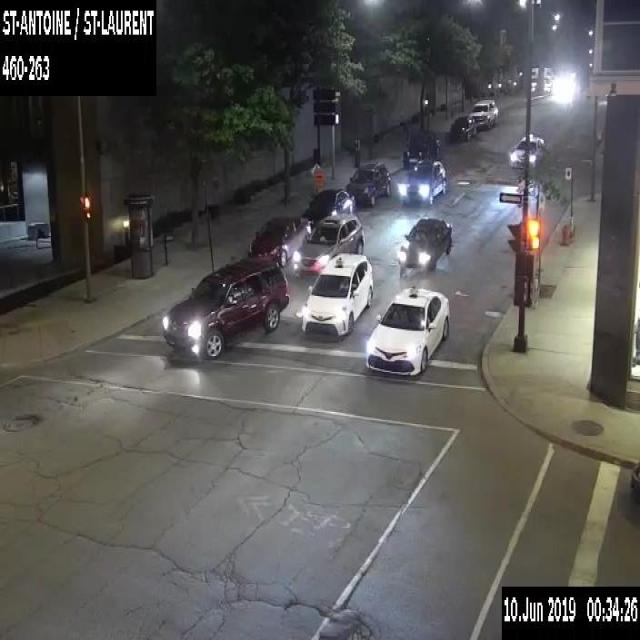construction: (310, 162, 323, 192)
pedestrian: (353, 134, 361, 167)
vehicle: (161, 252, 288, 360), (366, 285, 449, 375), (300, 253, 372, 336), (293, 212, 364, 274), (397, 214, 453, 274), (248, 214, 311, 266), (300, 187, 354, 232), (399, 159, 446, 203), (345, 161, 391, 204), (402, 129, 444, 168), (508, 132, 544, 169), (468, 98, 498, 128), (449, 114, 476, 140), (629, 459, 639, 499)
